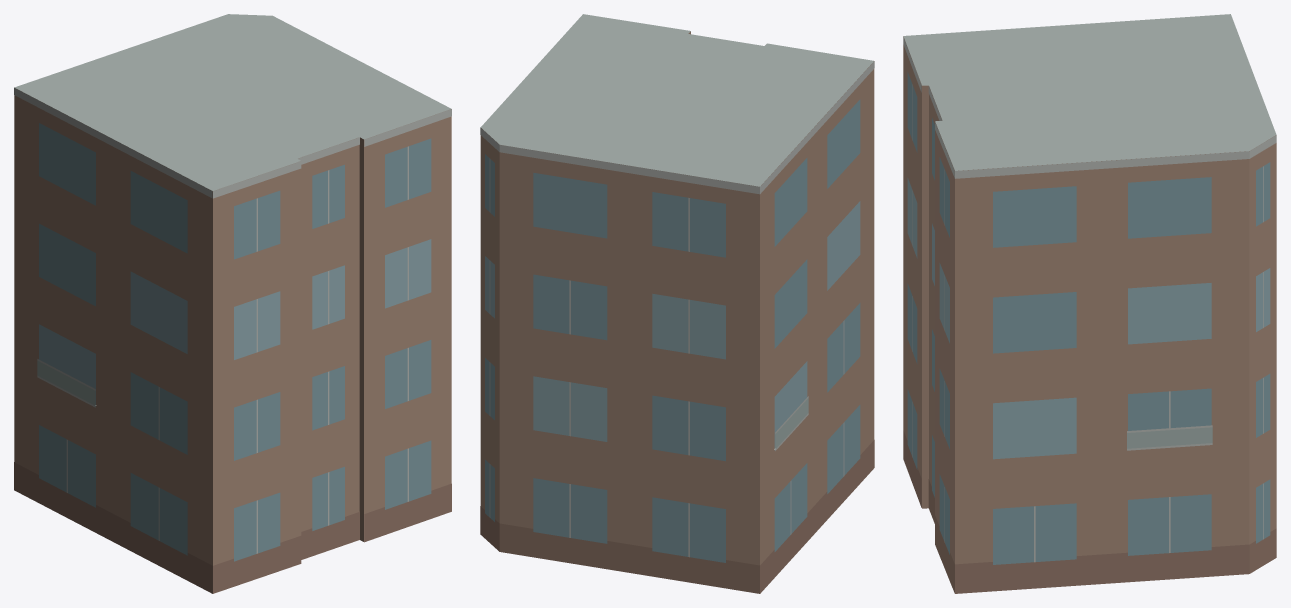
File: survey-upis-32968072.glb
3 views of the same model, side by side, from view 1: azimuth 30°, elevation 25°; view 2: azimuth 150°, elevation 25°; view 3: azimuth 270°, elevation 25° (orthographic). The views are drawn at different scales.
Visible parts, largest first — view 1: survey-upis-32968072.tmp; view 2: survey-upis-32968072.tmp; view 3: survey-upis-32968072.tmp.
Boxes of the visible parts, x1=… form: survey-upis-32968072.tmp: x1=14, y1=14, x2=451, y2=593; survey-upis-32968072.tmp: x1=480, y1=14, x2=874, y2=593; survey-upis-32968072.tmp: x1=903, y1=14, x2=1276, y2=593.
Bounding box in the file's own units: 10.44 × 13.1 × 10.49.
